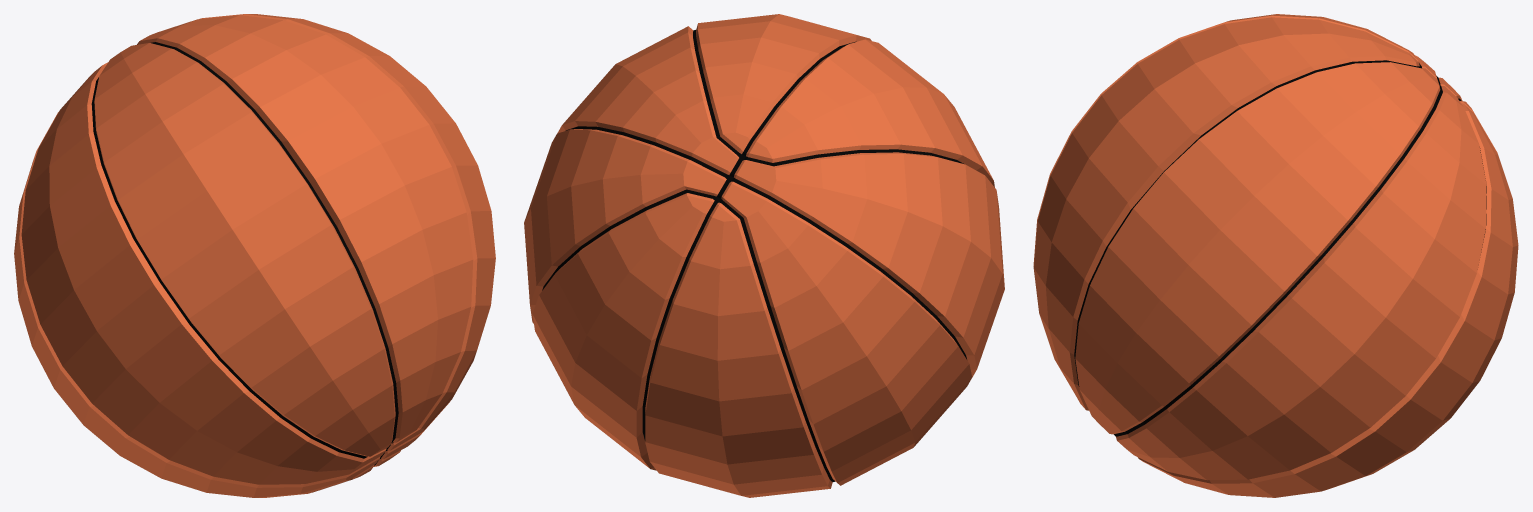
Rendered from Basketball (1).glb.
3 renders of one model, left to right at view 1: azimuth 30°, elevation 25°; view 2: azimuth 150°, elevation 25°; view 3: azimuth 270°, elevation 25°, orthographic.
Parts seen in each view (by area): view 1: Sphere; view 2: Sphere; view 3: Sphere.
Part boxes in pixels (x1,y1,x2,y2): Sphere: (14,14,495,497); Sphere: (524,14,1004,497); Sphere: (1033,14,1518,497).
Bounding box in the file's own units: 0.7538 × 0.7686 × 0.766.
